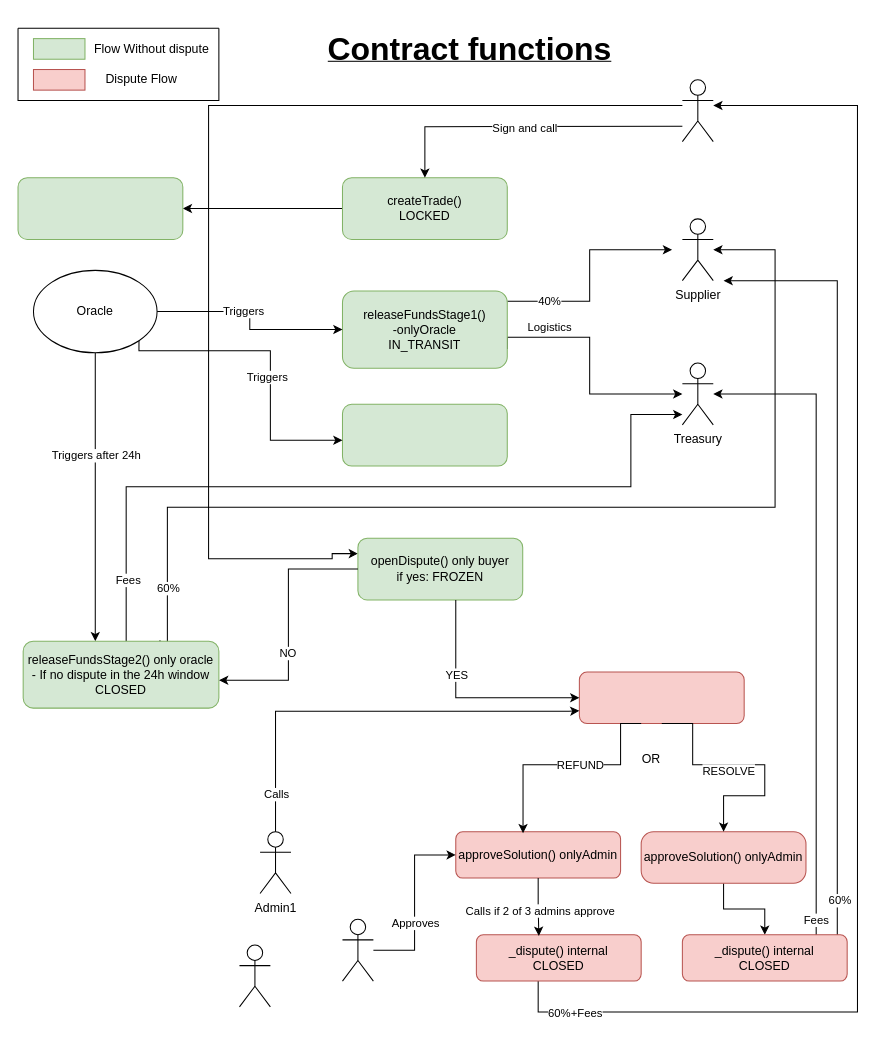
Image size: 884x1045. Some labels were removed from this diagram. Here are the shapes that lost their labels. From the top down, the centre of each, then its label:
(697,110): Buyer
(100,208): function verifySignature() internal
(424,434): arrivalConfirmed() onlyOracle - starts 24 hours timer ARRIVAL_CONFIRMED
(661,697): proposeSolution() onlyAdmin - RESOLVE OR REFUND
(357,949): Admin2
(254,975): Admin3
